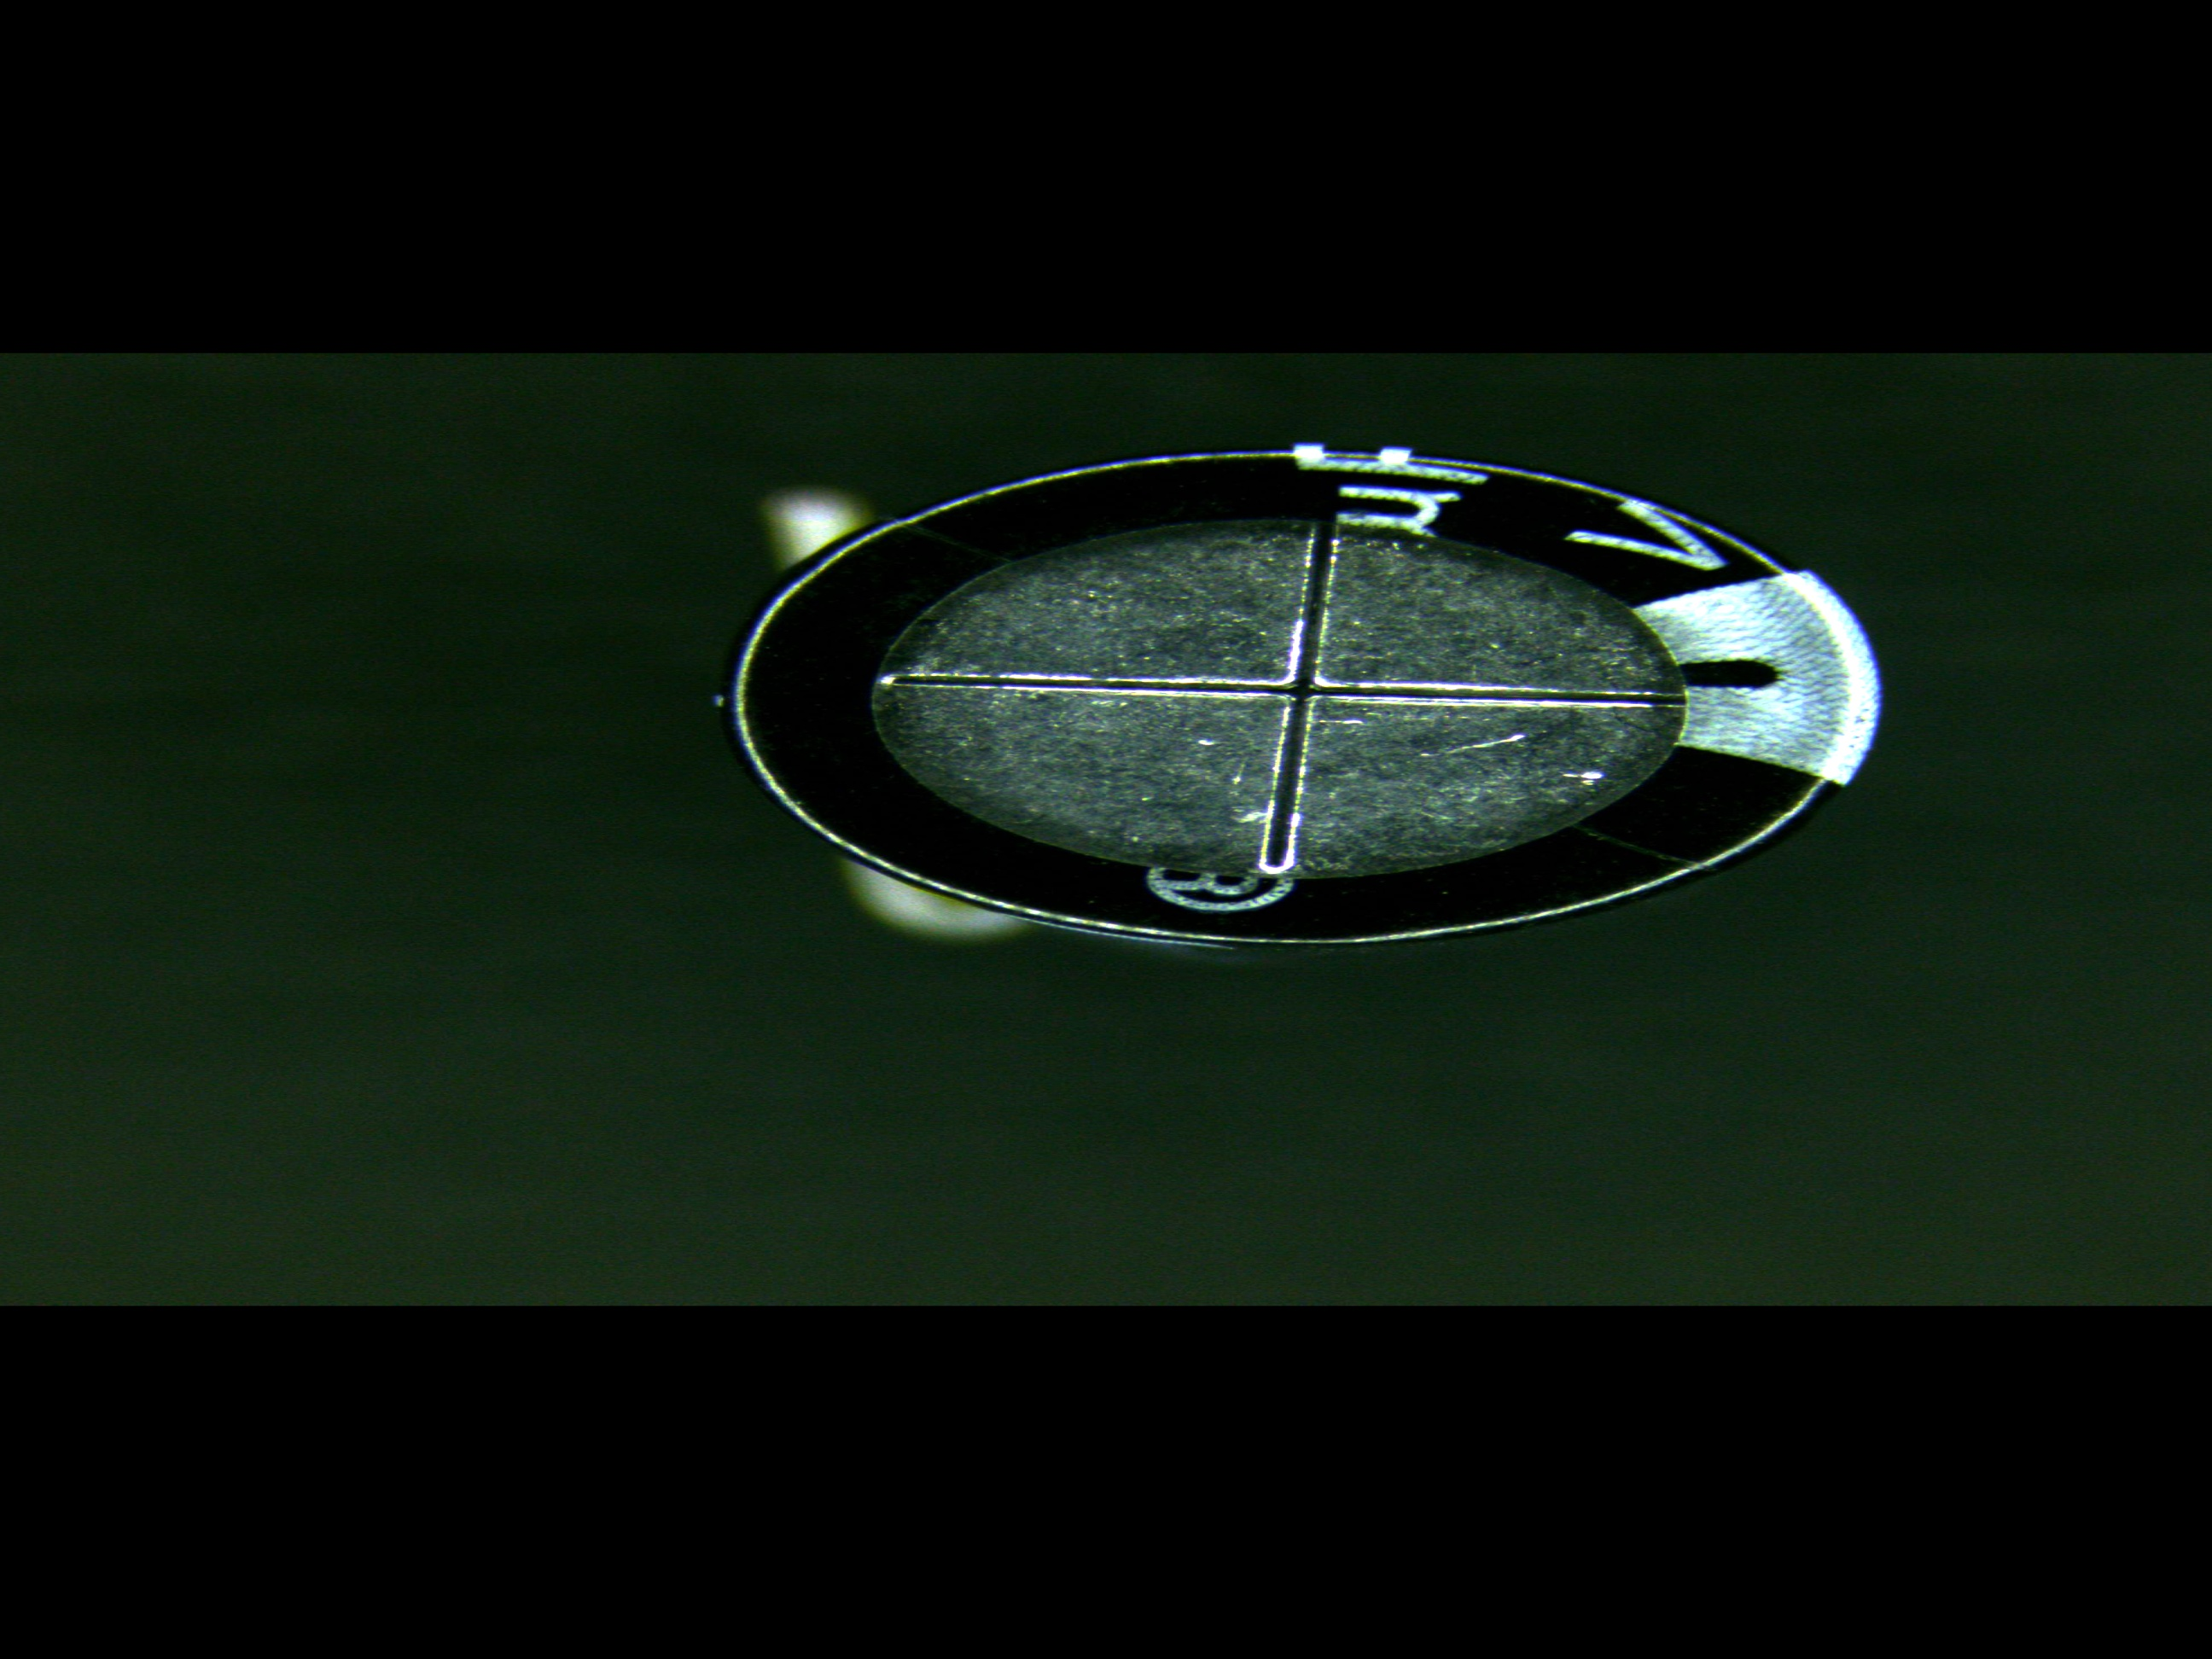c3: (726, 430, 1888, 950)
